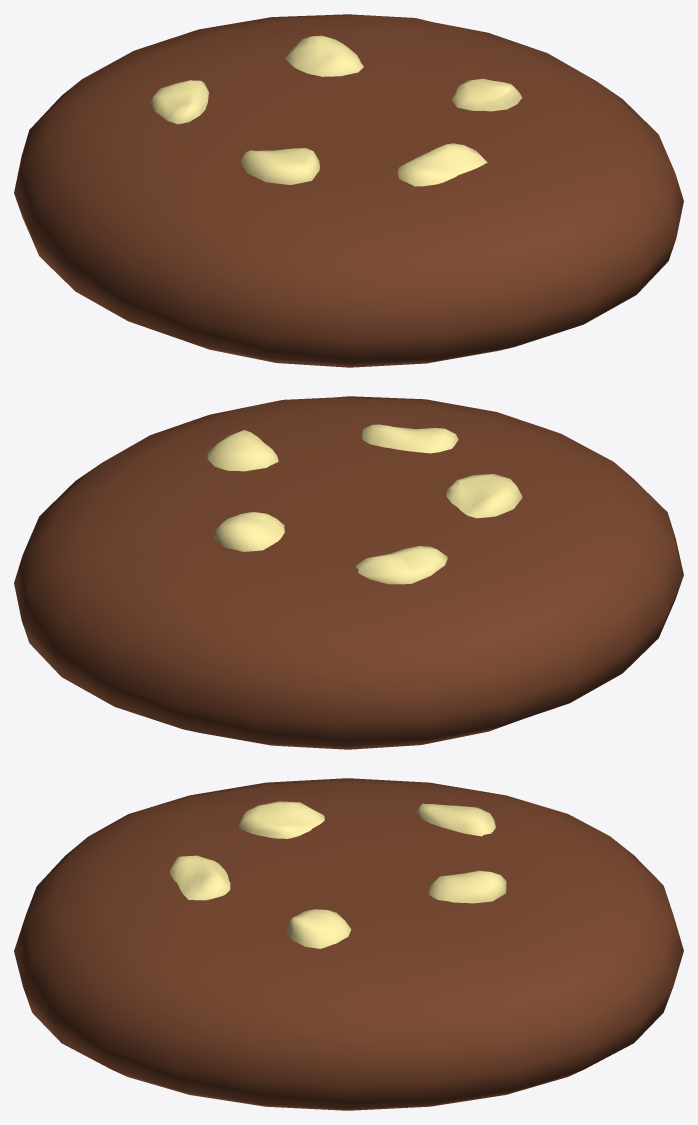
The model's file is CookieNut_01.fbx.
3 views of the same model, one above another, from view 1: azimuth 30°, elevation 25°; view 2: azimuth 150°, elevation 25°; view 3: azimuth 270°, elevation 25° (orthographic). The views are drawn at different scales.
Visible parts, largest first — view 1: CookieNut_01_LOD0; view 2: CookieNut_01_LOD0; view 3: CookieNut_01_LOD0.
Part boxes in pixels (bbox=[...]): CookieNut_01_LOD0: bbox=[14, 14, 683, 367]; CookieNut_01_LOD0: bbox=[14, 396, 683, 749]; CookieNut_01_LOD0: bbox=[14, 778, 683, 1110].
Size of what is drawn, in the model's own units: 468 by 120 by 491.
